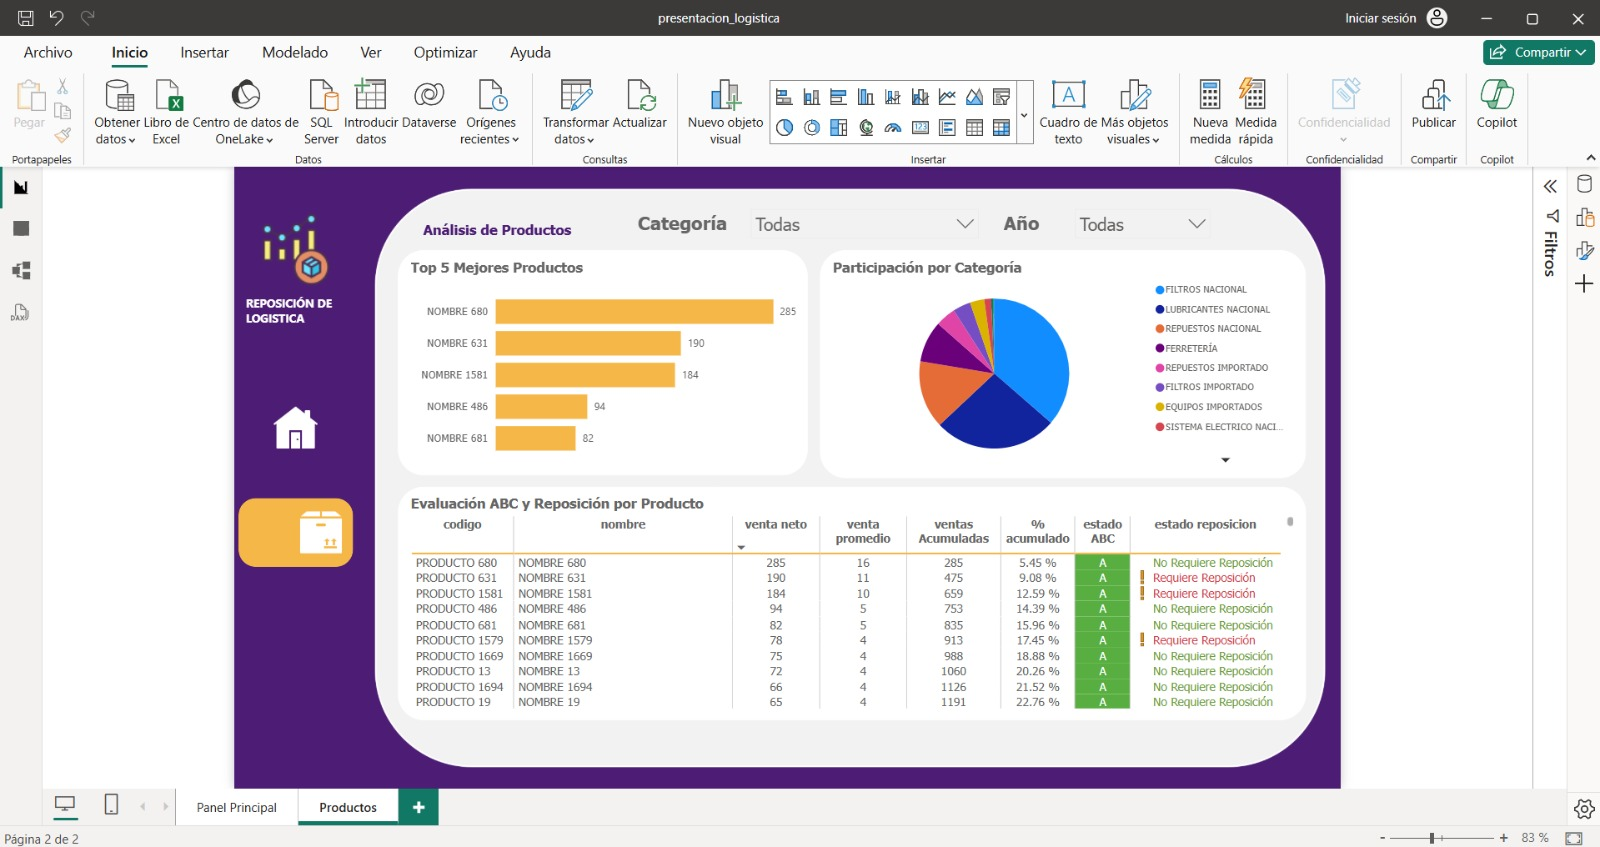

What the dashboard file says about the page in this screenshot:
{"tool":"powerbi","page":{"name":"Productos","canvas":[1280,720],"ordinal":1},"visuals":[{"type":"image","box":[158,0,1109.9,720.2],"z":0},{"type":"textbox","box":[885.9,47.6,63.5,41.8],"z":1000},{"type":"textbox","box":[213.6,58.4,222.1,31.3],"z":2000},{"type":"image","box":[41,47.1,96.5,95.3],"z":3000},{"type":"textbox","box":[24.1,142.4,129.1,48.3],"z":4000},{"type":"shape","box":[4.8,383.6,132.7,79.6],"z":5000},{"type":"image","box":[39.8,267.8,62.7,71.2],"z":6000},{"type":"image","box":[65.1,389.7,70,67.6],"z":7000},{"type":"barChart","title":"Top 5 Mejores Productos","fields":{"Category":["dimproducto.nombre"],"Y":["dimcategoria.Venta Neto"]},"box":[189.4,96.5,474.1,260.6],"z":8000},{"type":"pieChart","title":"Participación por Categoría","fields":{"Category":["dimcategoria.categoria"],"Y":["dimcategoria.Venta Neto"]},"box":[678,96.5,562.2,264.2],"z":9000},{"type":"tableEx","title":"Evaluación ABC y Reposición por Producto","fields":{"Values":["dimproducto.codigo","dimproducto.nombre","dimcategoria.Venta Neto","dimcategoria.Venta Promedio","dimcategoria.Ventas Acumuladas","dimcategoria.% Acumulado","dimcategoria.Estado ABC","dimcategoria.Estado Reposicion"]},"box":[189.4,370.4,1050.8,270.2],"z":10000},{"type":"slicer","fields":{"Values":["dimfechas.Año"]},"box":[962.3,39,177.5,60.6],"z":11000},{"type":"textbox","box":[461.7,47.6,125.5,41.8],"z":12000},{"type":"slicer","fields":{"Values":["dimproducto.categoria"]},"box":[587.2,39,284.2,50.5],"z":13000}]}

Visuals, with their boxes on the page's 1280x720 design canvas (x1, y1, x2, y2). These are canvas units, not pixel positions in the 1600x847 screenshot, which may show the page scaled, cropped or inside an application window:
image: (158, 0, 1268, 720)
textbox: (886, 48, 949, 89)
textbox: (214, 58, 436, 90)
image: (41, 47, 138, 142)
textbox: (24, 142, 153, 191)
shape: (5, 384, 138, 463)
image: (40, 268, 102, 339)
image: (65, 390, 135, 457)
"Top 5 Mejores Productos" barChart: (189, 96, 664, 357)
"Participación por Categoría" pieChart: (678, 96, 1240, 361)
"Evaluación ABC y Reposición por Producto" tableEx: (189, 370, 1240, 641)
slicer - dimfechas.Año: (962, 39, 1140, 100)
textbox: (462, 48, 587, 89)
slicer - dimproducto.categoria: (587, 39, 871, 90)
